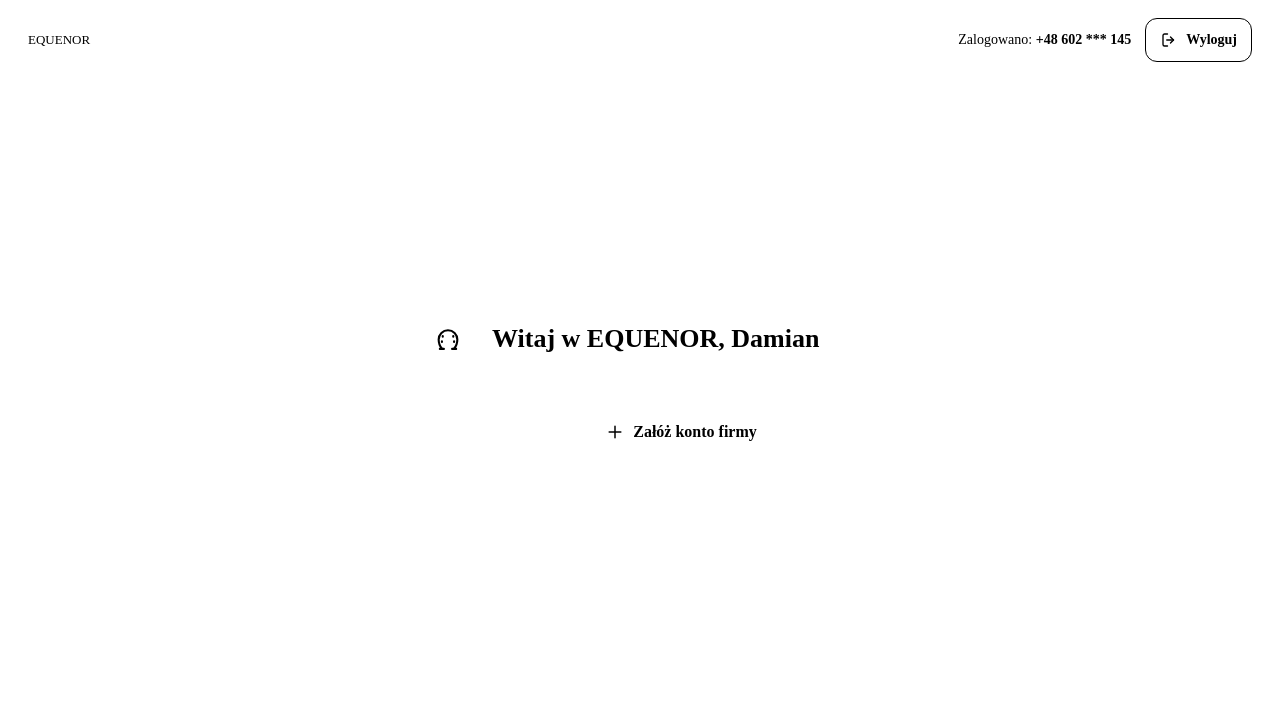
Test: WelcomeScreen and routing › silent refresh at start opens PanelWitaj; logout returns to login
Check: the heading "Witaj w EQUENOR, Damian" is shown, box top-left (492, 323), bottom-right (819, 355)
Click the button "Wyloguj" at (1199, 40), box top-left (1145, 18), bottom-right (1252, 62)
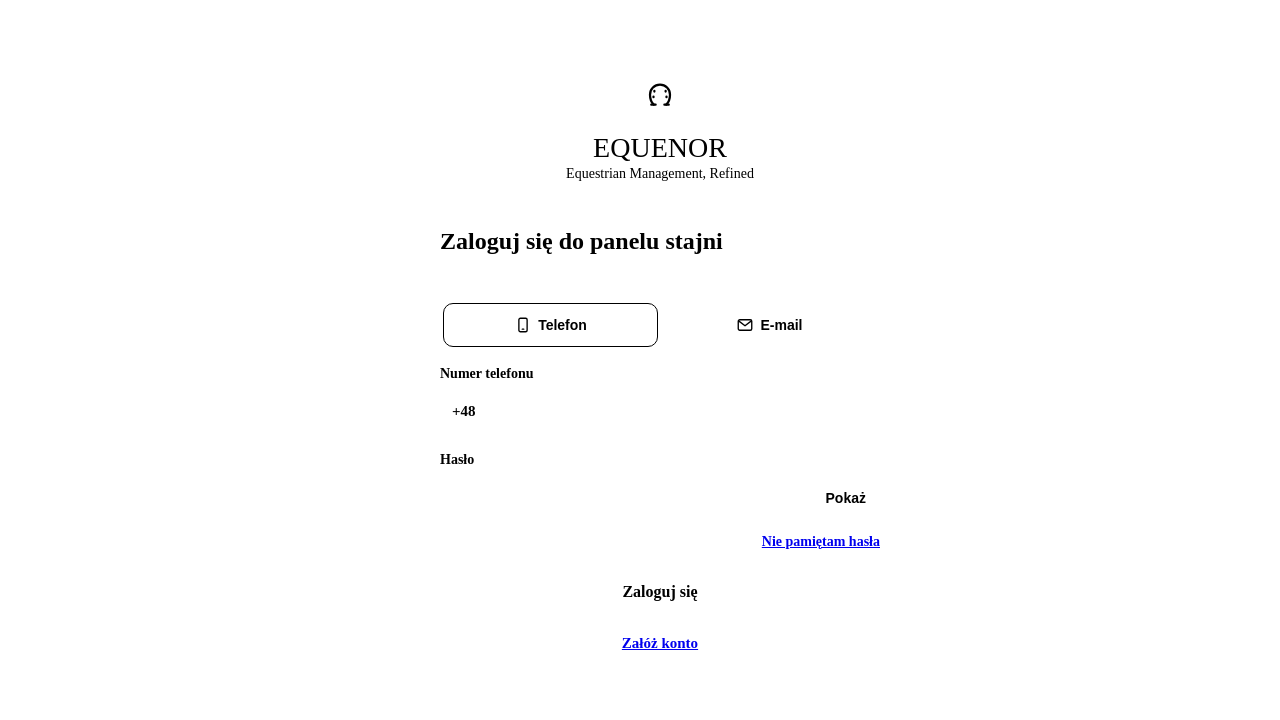
Check: the heading "Zaloguj się do panelu stajni" is shown, box top-left (440, 228), bottom-right (723, 254)
